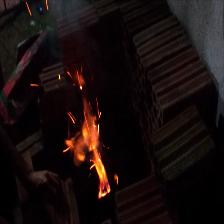fire: (65, 110, 115, 197)
